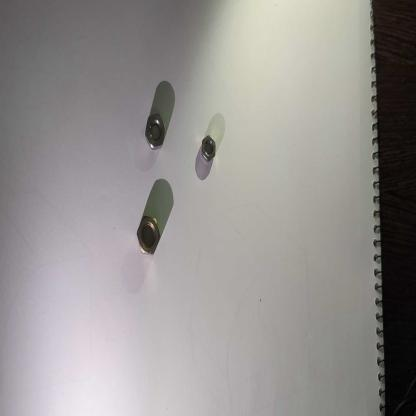NUTS: (137, 214, 161, 258), (144, 111, 166, 153), (199, 135, 218, 162)
